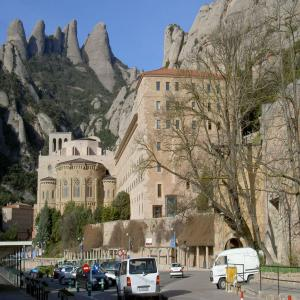Vehicle-registration-plate: (140, 289, 150, 292)
